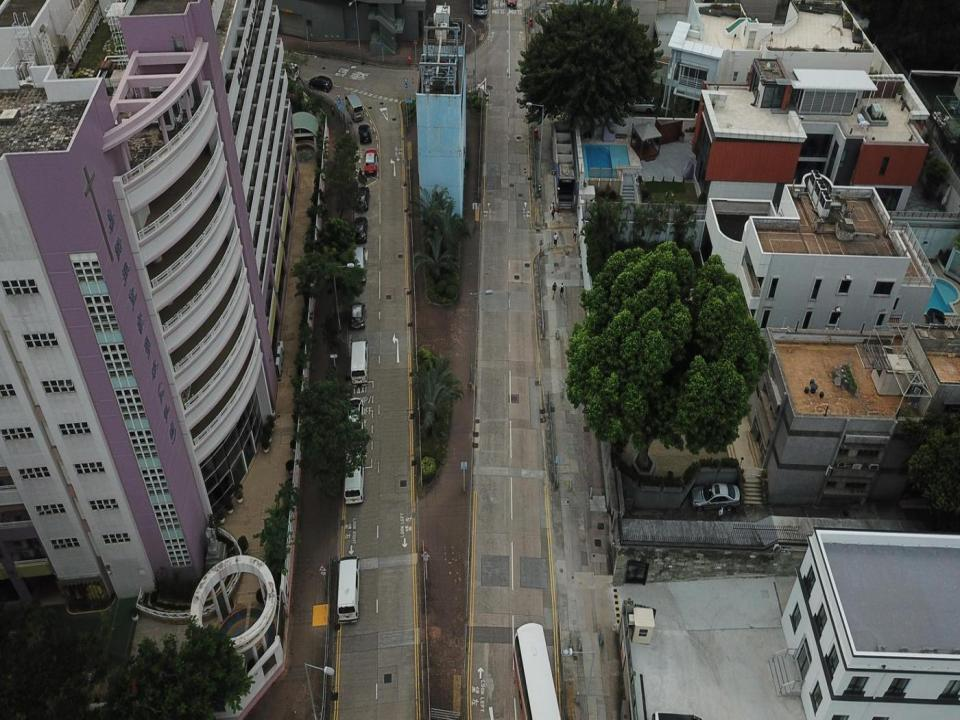bus: (512, 621, 563, 719), (471, 0, 488, 18)
car: (690, 482, 740, 508), (347, 397, 364, 434), (350, 301, 366, 329), (354, 185, 370, 212), (352, 217, 369, 242), (364, 149, 378, 174), (358, 124, 372, 144), (506, 0, 518, 8)
van: (338, 554, 359, 622), (344, 450, 364, 505), (350, 340, 368, 386), (350, 246, 367, 284), (275, 58, 299, 82), (346, 93, 364, 122), (308, 76, 332, 91)
